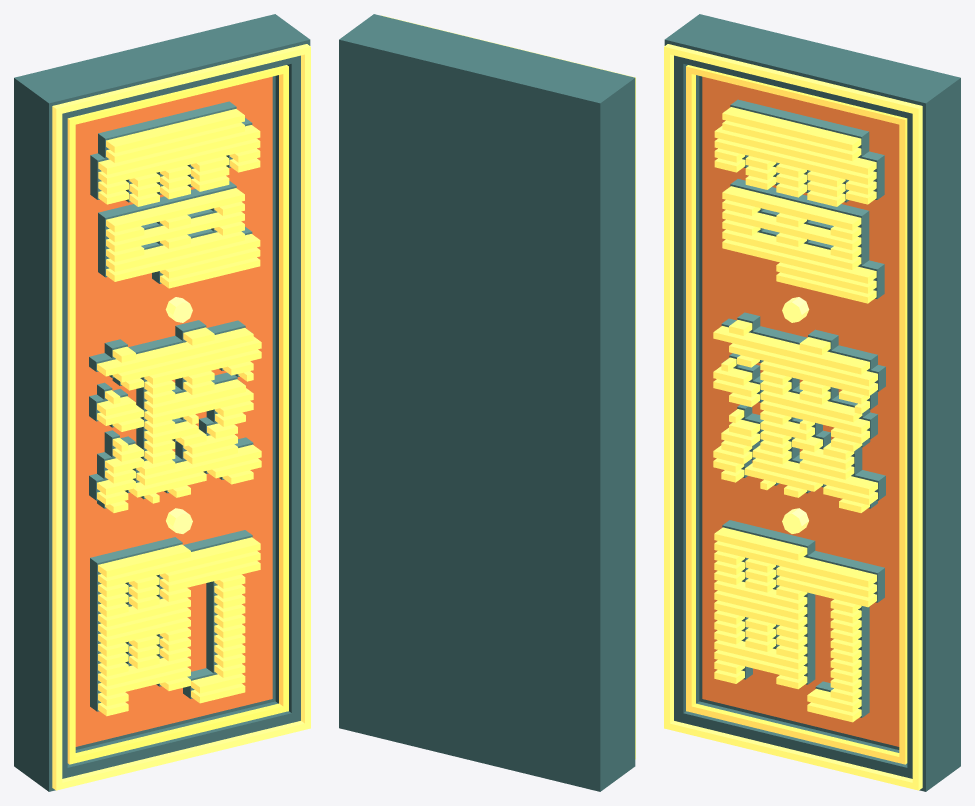
The model's file is denpa_sign.glb.
The picture shows the model from 3 angles, left to right: view 1: azimuth 30°, elevation 25°; view 2: azimuth 150°, elevation 25°; view 3: azimuth 330°, elevation 25°; orthographic projection.
Parts seen in each view (by area): view 1: Denpa_Cabinet, Denpa_Bay, Denpa_Neon_Den, Denpa_Neon_Ha, Denpa_Neon_Machi, Denpa_Neon_Outer, Denpa_Neon_Trim, Denpa_Metal_Ha, Denpa_Metal_Den, Denpa_Metal_Machi, Denpa_Neon_Dot; view 2: Denpa_Cabinet, Denpa_Neon_Outer; view 3: Denpa_Cabinet, Denpa_Bay, Denpa_Neon_Den, Denpa_Neon_Ha, Denpa_Neon_Machi, Denpa_Neon_Outer, Denpa_Neon_Trim, Denpa_Metal_Ha, Denpa_Metal_Den, Denpa_Metal_Machi, Denpa_Neon_Dot.
Part boxes in pixels (x1,y1,x2,y2): Denpa_Cabinet: [14, 14, 310, 791]; Denpa_Bay: [75, 76, 272, 746]; Denpa_Neon_Den: [98, 109, 260, 288]; Denpa_Neon_Ha: [97, 327, 261, 512]; Denpa_Neon_Machi: [98, 537, 260, 716]; Denpa_Neon_Outer: [52, 44, 310, 790]; Denpa_Neon_Trim: [67, 65, 288, 764]; Denpa_Metal_Ha: [89, 320, 253, 508]; Denpa_Metal_Den: [90, 101, 252, 283]; Denpa_Metal_Machi: [90, 530, 252, 711]; Denpa_Neon_Dot: [165, 297, 192, 533]; Denpa_Cabinet: [339, 14, 635, 791]; Denpa_Neon_Outer: [381, 15, 635, 759]; Denpa_Cabinet: [664, 14, 960, 791]; Denpa_Bay: [702, 76, 899, 746]; Denpa_Neon_Den: [714, 107, 876, 303]; Denpa_Neon_Ha: [713, 320, 877, 512]; Denpa_Neon_Machi: [714, 527, 876, 722]; Denpa_Neon_Outer: [664, 44, 922, 790]; Denpa_Neon_Trim: [686, 65, 907, 764]; Denpa_Metal_Ha: [721, 312, 885, 508]; Denpa_Metal_Den: [730, 99, 884, 298]; Denpa_Metal_Machi: [722, 520, 884, 717]; Denpa_Neon_Dot: [782, 297, 809, 533].
Bounding box in the file's own units: 2.24 × 5.64 × 0.58.
